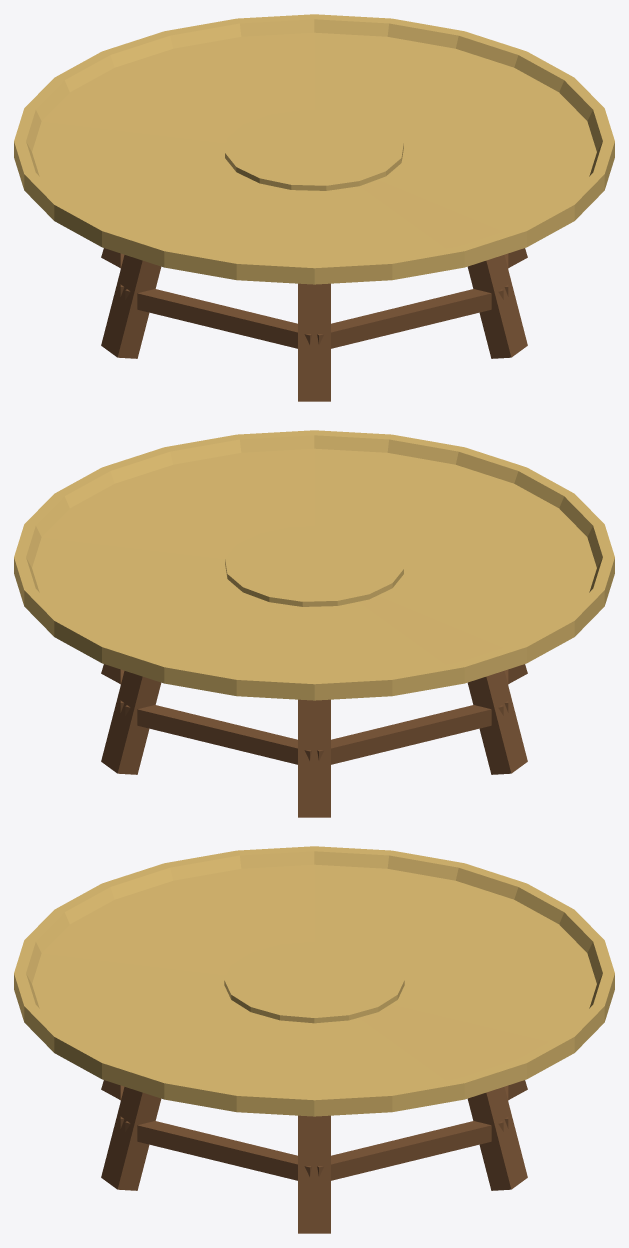
Rendered from majlis-table.glb.
3 views of the same model, one above another, from view 1: azimuth 30°, elevation 25°; view 2: azimuth 150°, elevation 25°; view 3: azimuth 270°, elevation 25° (orthographic).
Parts seen in each view (by area): view 1: majlis-table; view 2: majlis-table; view 3: majlis-table.
Boxes of the visible parts, left/top/right/bottom form: majlis-table: left=14, top=14, right=614, bottom=401; majlis-table: left=14, top=430, right=614, bottom=817; majlis-table: left=14, top=846, right=614, bottom=1233.
Bounding box in the file's own units: 0.4 × 0.1222 × 0.4.
